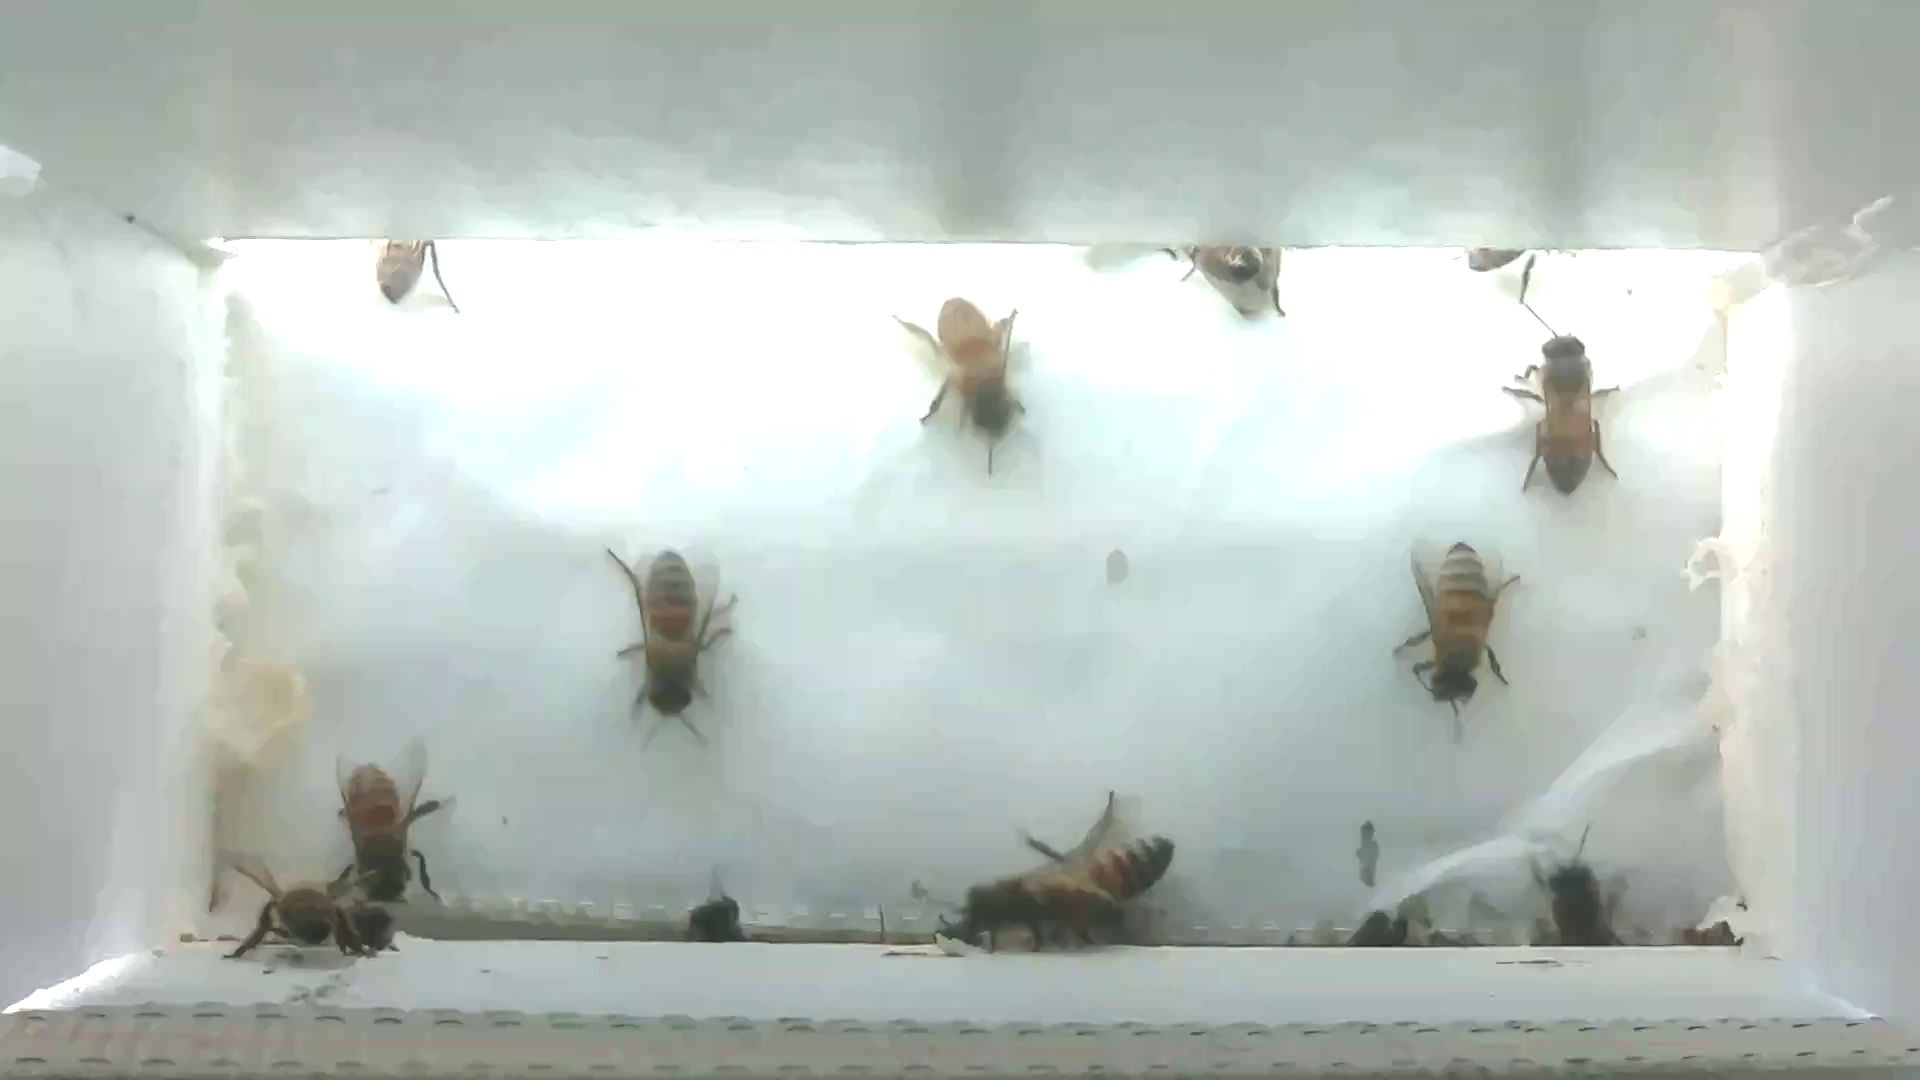bee: (582, 516, 760, 771), (870, 272, 1065, 471), (1389, 517, 1534, 735), (1501, 299, 1639, 516), (318, 729, 458, 922), (225, 849, 388, 981), (1155, 222, 1321, 344), (1015, 811, 1185, 930), (935, 872, 1149, 965), (1509, 836, 1640, 969), (351, 229, 485, 338), (1453, 220, 1585, 315), (655, 876, 760, 952)
